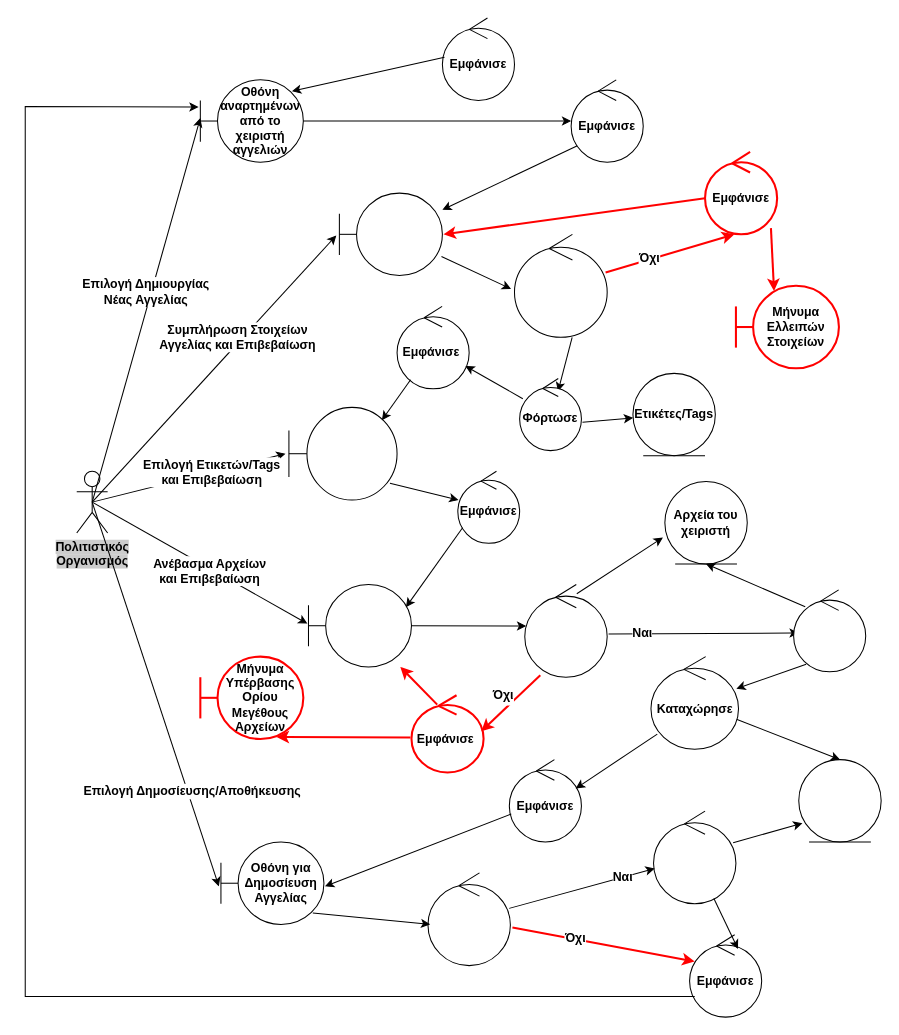
Image size: 899x1035. Some labels were removed from this diagram. The box of each missing label's shape, as (x1, y1, x2, y2) in pixels:
Αγγελία Εργασίας: (798, 759, 881, 842)
Αποθήκευσε: (793, 589, 866, 672)
Επιλέχθηκε Δημοσίευση?: (427, 872, 510, 966)
Κάνε δημόσια: (653, 810, 736, 904)
Μέγεθος αρχείων εντός ορίων?: (524, 583, 607, 677)
Οθόνη για ανέβασμα αρχείων: (307, 583, 411, 667)
Οθόνη επιλογής ετικετών/tags: (288, 406, 397, 500)
Οθόνη συμπλήρωσης στοιχείων αγγελίας: (338, 192, 442, 276)
Συμπλήρωση απαιτούμενων στοιχείων?: (513, 233, 607, 337)
